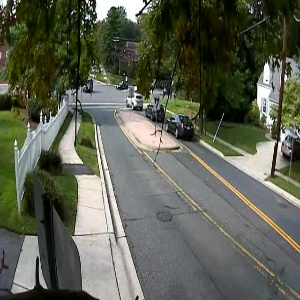car: (163, 113, 200, 141), (274, 130, 300, 162), (142, 103, 167, 125)
suv: (121, 90, 147, 110)
